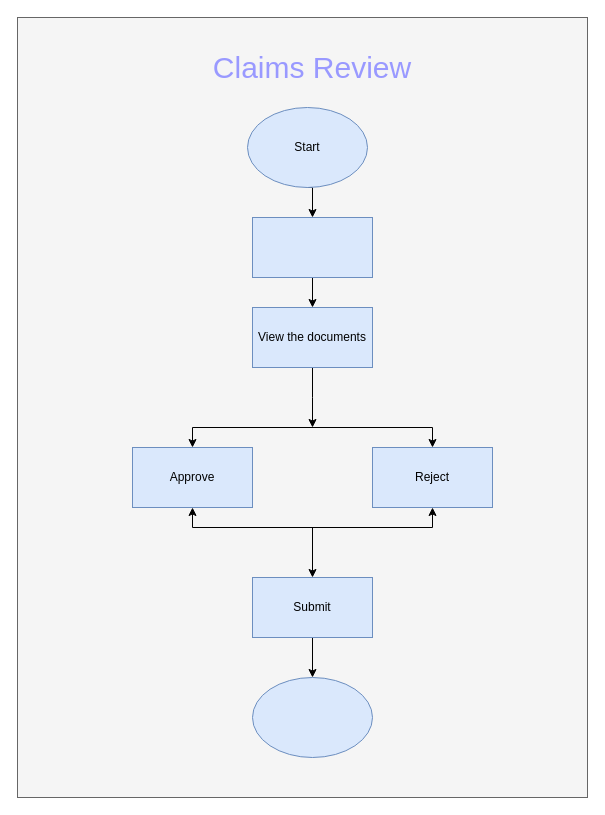
The diagram is 605 pixels wide and 815 high, and some of its shapes have lost their labels. The shapes that lost their labels are listed below. From the top down, each one's centre as x and y in pixels, then its label:
At [312,247]: "Get Email".
At [312,717]: "End of Review".
